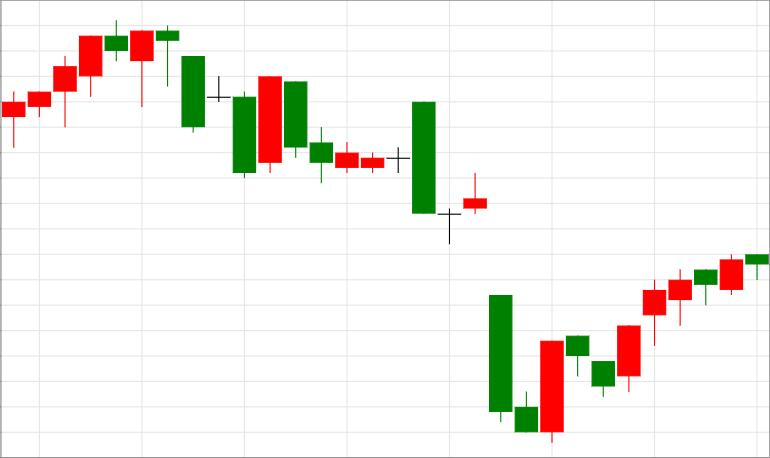bullish_engulfing_rise: (412, 102, 564, 443)
